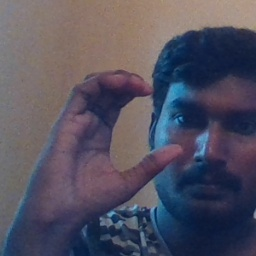C: (60, 65, 191, 191)
